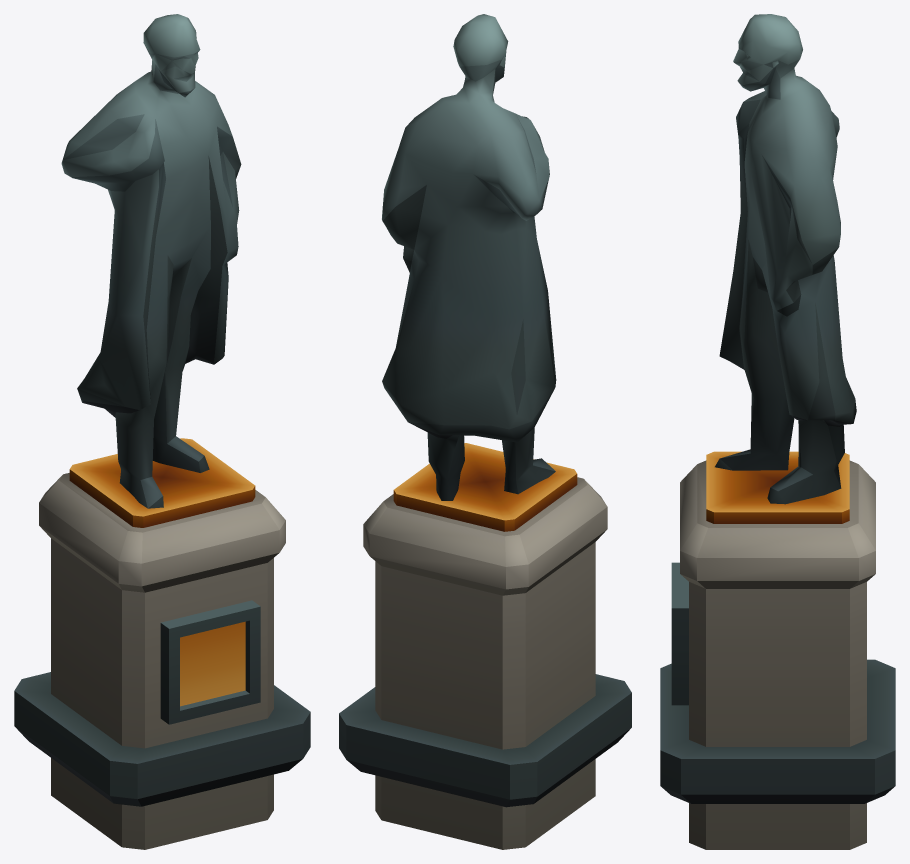
Rendered from Statue_3B.fbx.
3 views of the same model, side by side, from view 1: azimuth 30°, elevation 25°; view 2: azimuth 150°, elevation 25°; view 3: azimuth 270°, elevation 25° (orthographic). The views are drawn at different scales.
Visible parts, largest first — view 1: Statue_3B; view 2: Statue_3B; view 3: Statue_3B.
Boxes of the visible parts, box(x1,y1,x2,y2) form: Statue_3B: box(14, 14, 310, 849); Statue_3B: box(339, 14, 631, 849); Statue_3B: box(660, 14, 895, 849).
Bounding box in the file's own units: 279 × 1047 × 279.
